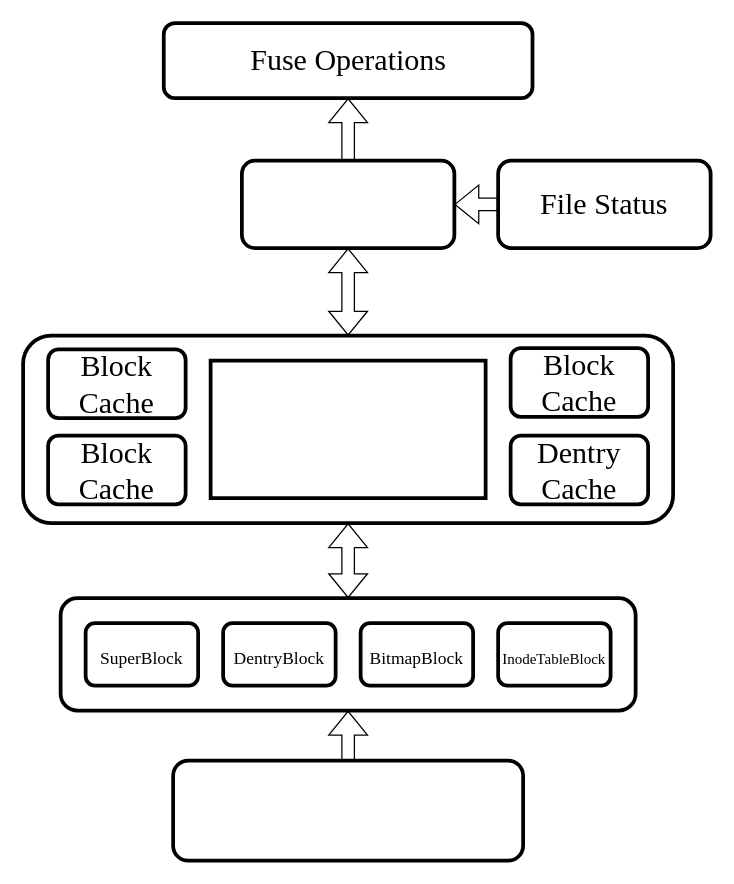
Some shapes in this 734 by 884 pixel diagram are drawn without their labels. Here are the shapes that lost their labels. From the top down, the centre of each, then its label:
At point 347,203: "Inode Cache".
At point 347,428: "Block Groups".
At point 347,810: "Virtual Disk Driver".
